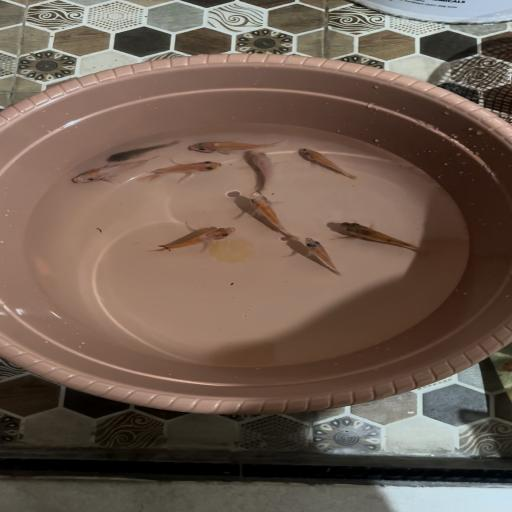nila: (150, 222, 242, 258), (73, 159, 169, 190), (333, 220, 423, 252), (292, 146, 363, 184), (240, 192, 301, 236), (292, 237, 352, 275), (184, 133, 281, 156), (104, 136, 176, 164), (145, 160, 229, 183), (240, 151, 286, 191)
